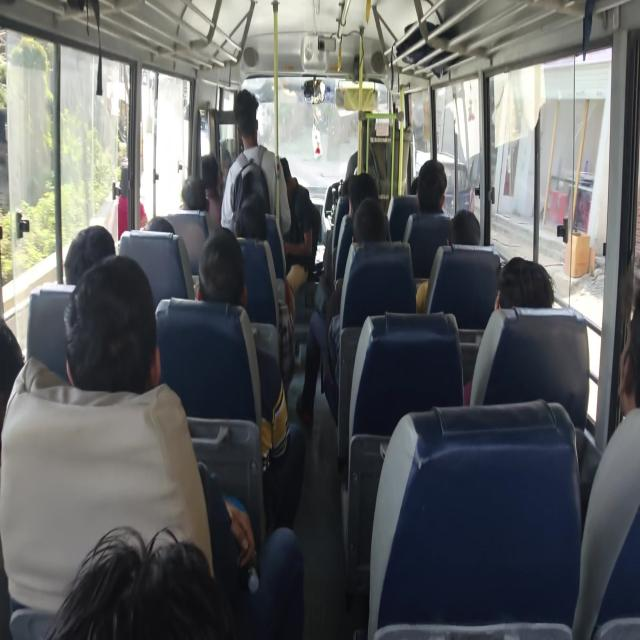person: (1, 253, 304, 638), (196, 227, 306, 531), (571, 268, 639, 638), (296, 196, 390, 426), (44, 525, 233, 639), (465, 255, 555, 406), (220, 88, 292, 236), (415, 208, 481, 313), (279, 156, 313, 292), (402, 158, 450, 243), (63, 224, 116, 286), (104, 164, 147, 240), (494, 256, 554, 310), (416, 158, 449, 216), (200, 152, 223, 232), (449, 208, 481, 246), (178, 174, 206, 211)
